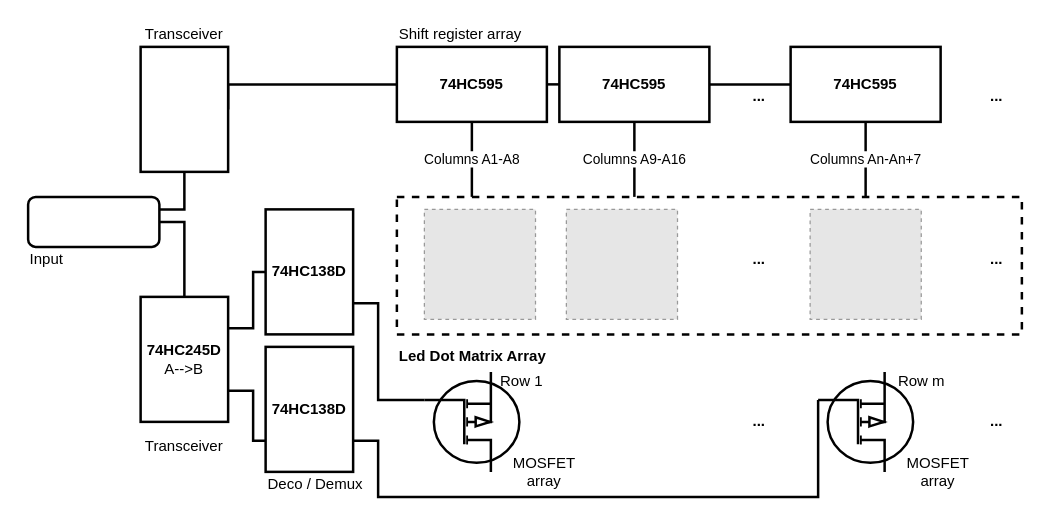
The diagram is 1049 pixels wide and 520 high, and some of its shapes have lost their labels. Grey dashed boxes stand in for pictures. The shapes that lost their labels are listed below. From the top down, each one's centre as x and y in pixels, then its label:
point (184, 108): 74HC245D B-->A
point (93, 221): Conn 2x8
